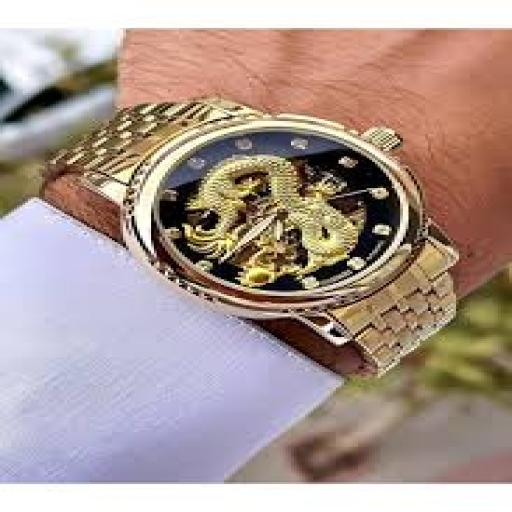KolSaati: (23, 62, 480, 392)
